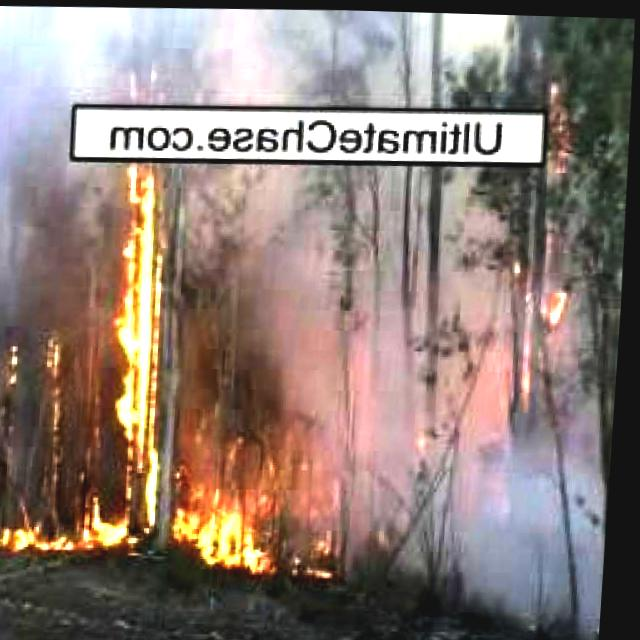helmet: (0, 485, 287, 571), (108, 159, 174, 497), (537, 60, 605, 207), (38, 325, 77, 457), (544, 266, 581, 328)
